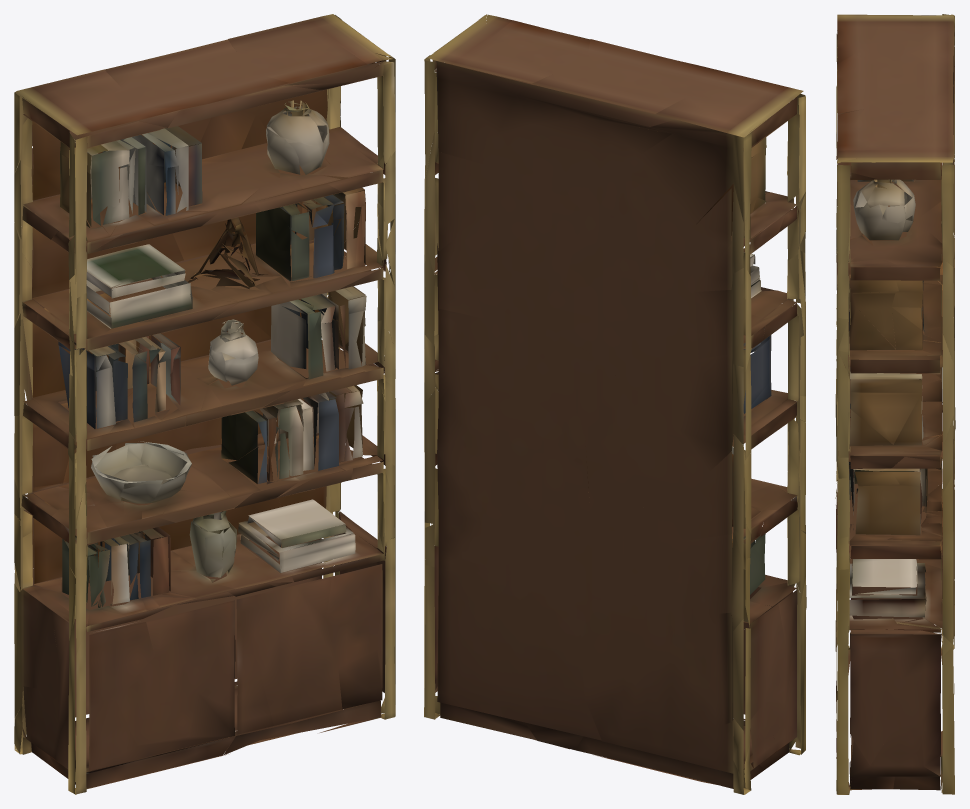
File: bookcase.glb
The picture shows the model from 3 angles, left to right: view 1: azimuth 30°, elevation 25°; view 2: azimuth 150°, elevation 25°; view 3: azimuth 270°, elevation 25°; orthographic projection. The views are drawn at different scales.
Parts seen in each view (by area): view 1: LO.001; view 2: LO.001; view 3: LO.001.
Boxes of the visible parts, box(x1,y1,x2,y2) form: LO.001: box(14, 14, 395, 794); LO.001: box(424, 14, 806, 794); LO.001: box(835, 14, 955, 794).
Size of the model in its own units: 1.17 by 2.3 by 0.3977.
1 material, 1 textured.
